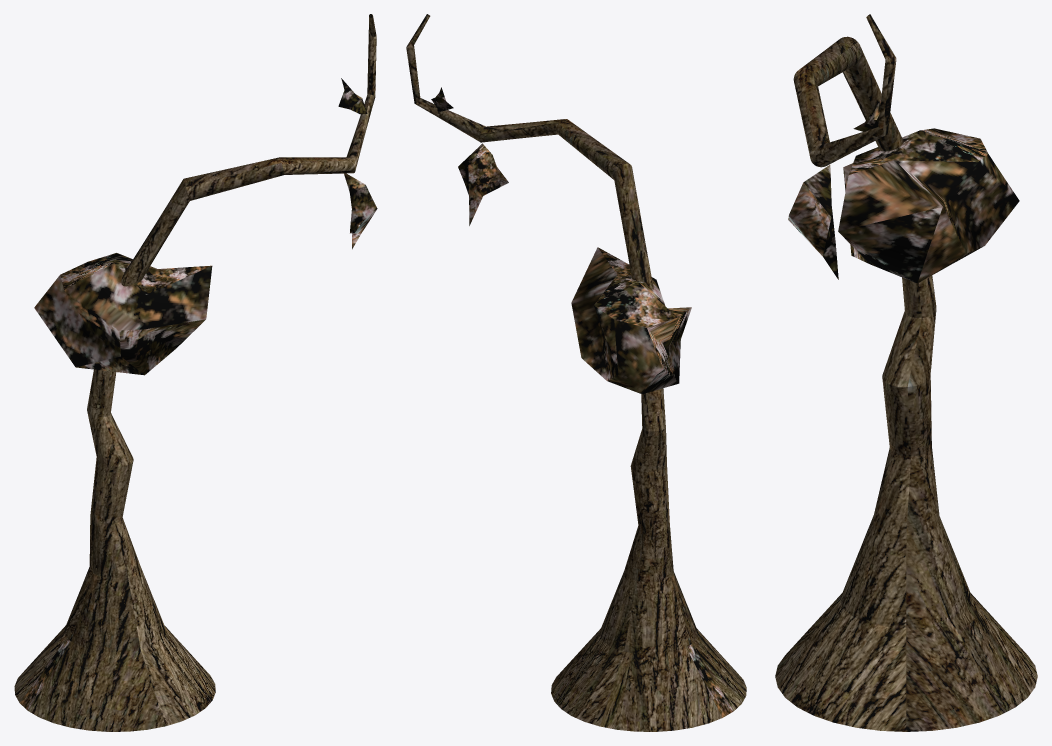
File: FluffPlantDead.fbx
3 views of the same model, side by side, from view 1: azimuth 30°, elevation 25°; view 2: azimuth 150°, elevation 25°; view 3: azimuth 270°, elevation 25° (orthographic). The views are drawn at different scales.
Parts seen in each view (by area): view 1: FluffPlantDead; view 2: FluffPlantDead; view 3: FluffPlantDead.
Boxes of the visible parts, x1,y1,x2,y2 form: FluffPlantDead: [14, 14, 377, 731]; FluffPlantDead: [406, 14, 746, 731]; FluffPlantDead: [775, 14, 1037, 731].
Size of the model in its own units: 0.3057 by 0.1561 by 0.5347.
